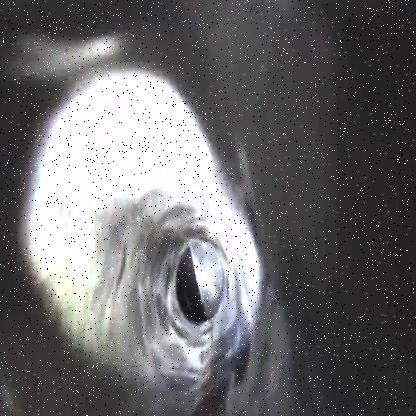Crack: (131, 210, 269, 387)
